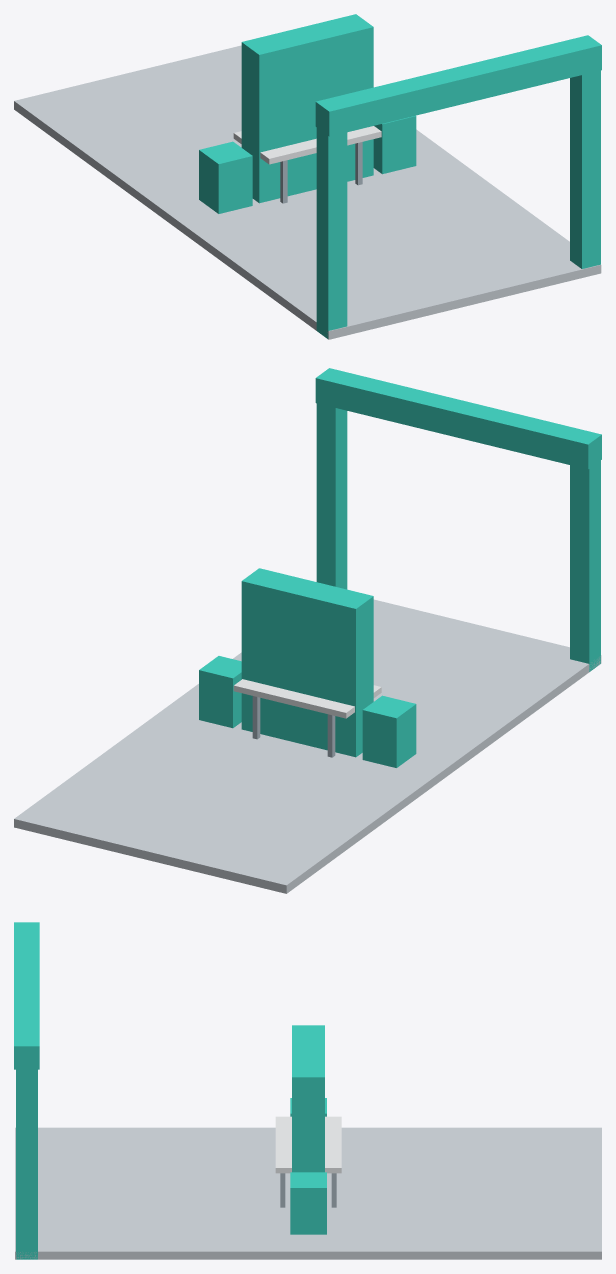
3 views of the same model, one above another, from view 1: azimuth 30°, elevation 25°; view 2: azimuth 150°, elevation 25°; view 3: azimuth 270°, elevation 25° (orthographic). The views are drawn at different scales.
Visible parts, largest first — view 1: Exhibition Booth Concept; view 2: Exhibition Booth Concept; view 3: Exhibition Booth Concept.
Boxes of the visible parts, box(x1,y1,x2,y2) form: Exhibition Booth Concept: box(14, 14, 601, 339); Exhibition Booth Concept: box(14, 368, 601, 893); Exhibition Booth Concept: box(14, 922, 601, 1259).
Bounding box in the file's own units: 4 × 3.2 × 8.01.
